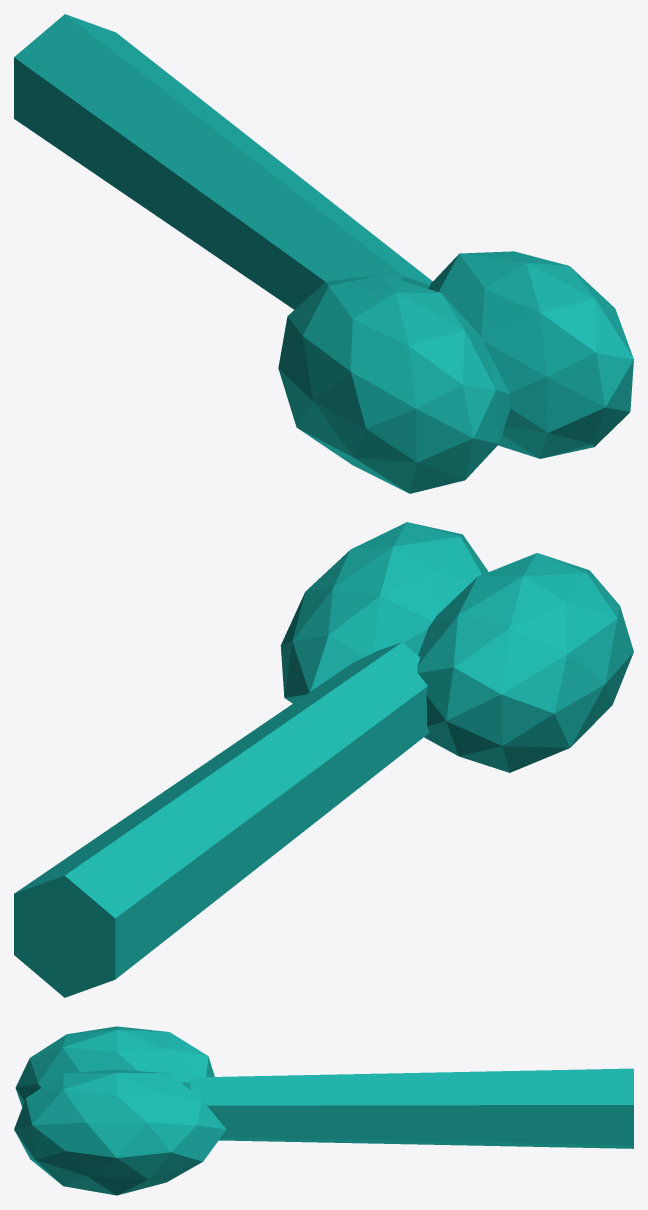
Rendered from trkb.obj.
3 views of the same model, one above another, from view 1: azimuth 30°, elevation 25°; view 2: azimuth 150°, elevation 25°; view 3: azimuth 270°, elevation 25° (orthographic). The views are drawn at different scales.
Visible parts, largest first — view 1: part2, part0, part1; view 2: part2, part0, part1; view 3: part2, part1, part0.
Part boxes in pixels (left/top/right/bottom): part2: left=14, top=14, right=432, bottom=309; part0: left=278, top=274, right=510, bottom=493; part1: left=428, top=251, right=633, bottom=458; part2: left=14, top=642, right=429, bottom=997; part0: left=417, top=553, right=633, bottom=772; part1: left=280, top=522, right=488, bottom=703; part2: left=190, top=1068, right=633, bottom=1148; part1: left=14, top=1069, right=226, bottom=1195; part0: left=15, top=1026, right=214, bottom=1106.
Size of the model in its own units: 0.463 by 0.258 by 1.26.
